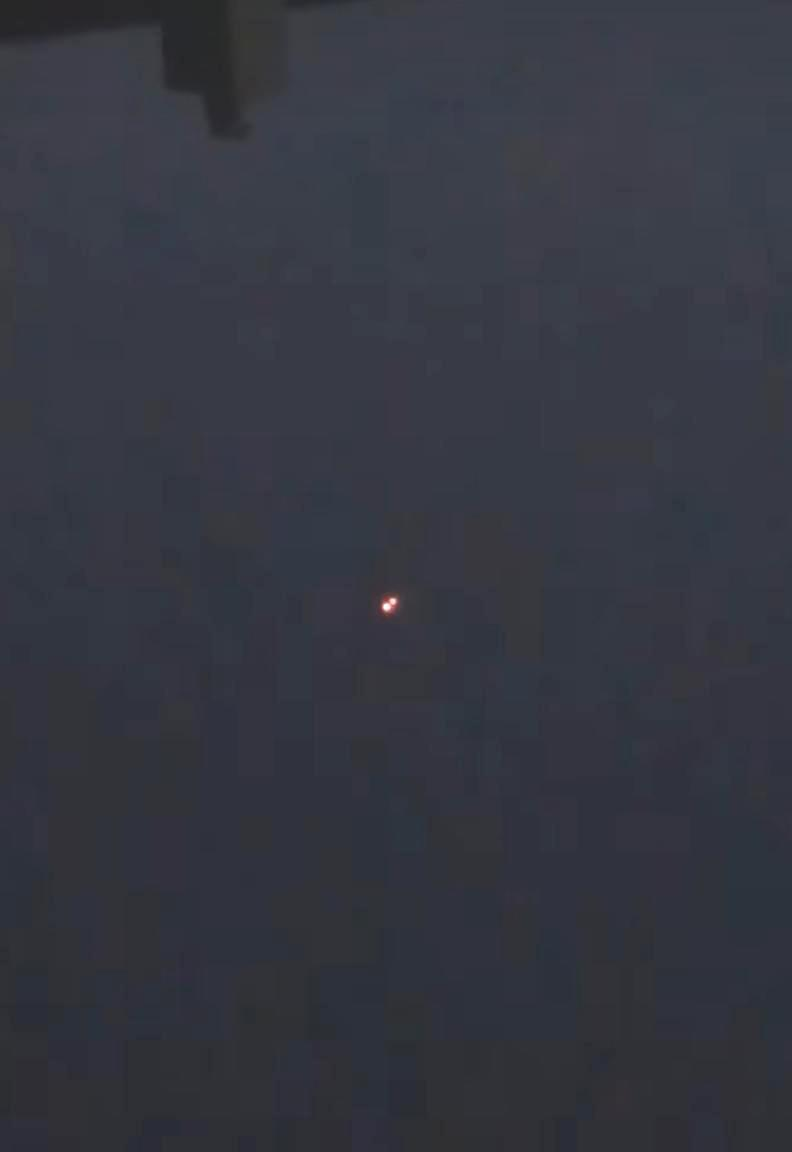Plane: (354, 576, 422, 633)
